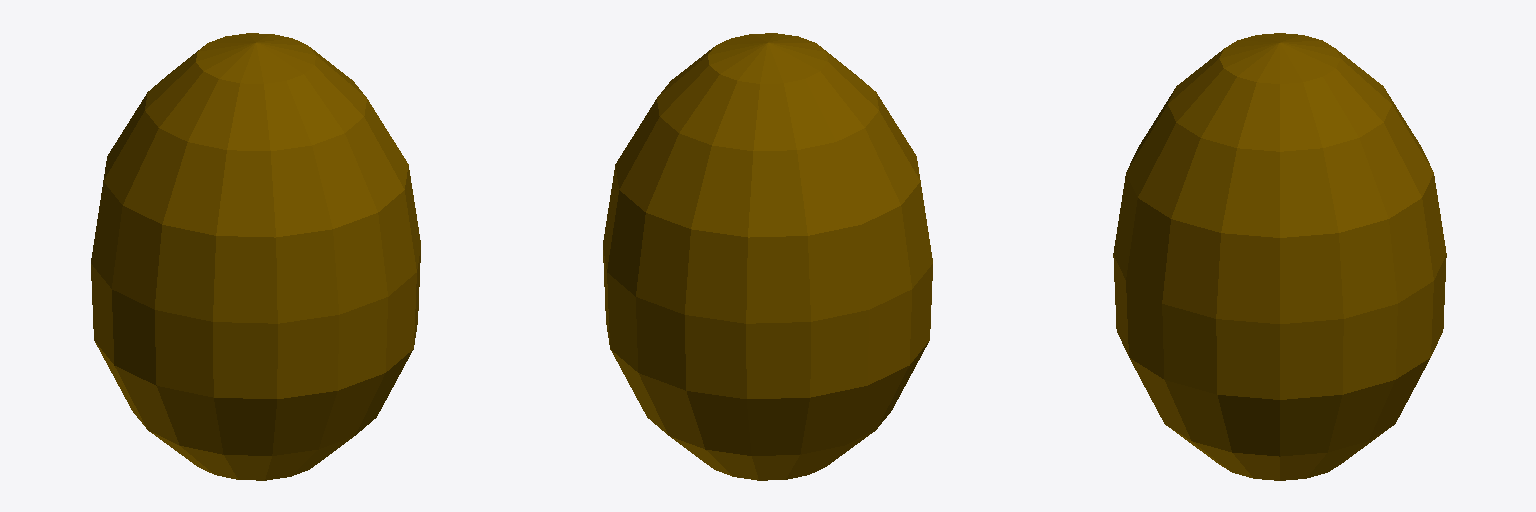
File: egg_basic_easter.obj
3 views of the same model, side by side, from view 1: azimuth 30°, elevation 25°; view 2: azimuth 150°, elevation 25°; view 3: azimuth 270°, elevation 25° (orthographic).
Visible parts, largest first — view 1: 0; view 2: 0; view 3: 0.
Boxes of the visible parts, x1,y1,x2,y2 form: 0: [91, 33, 420, 480]; 0: [603, 33, 932, 480]; 0: [1113, 33, 1446, 480].
Bounding box in the file's own units: 0.3574 × 0.5049 × 0.3574.